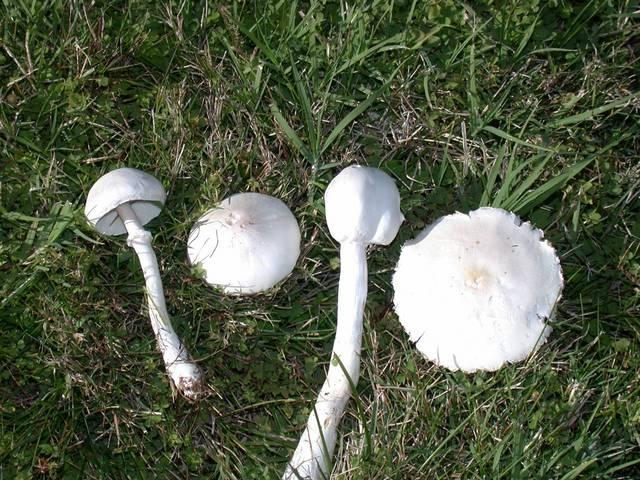Non-edible Mushroom: (279, 163, 405, 479), (390, 205, 564, 374), (83, 166, 204, 400), (185, 191, 301, 297)
